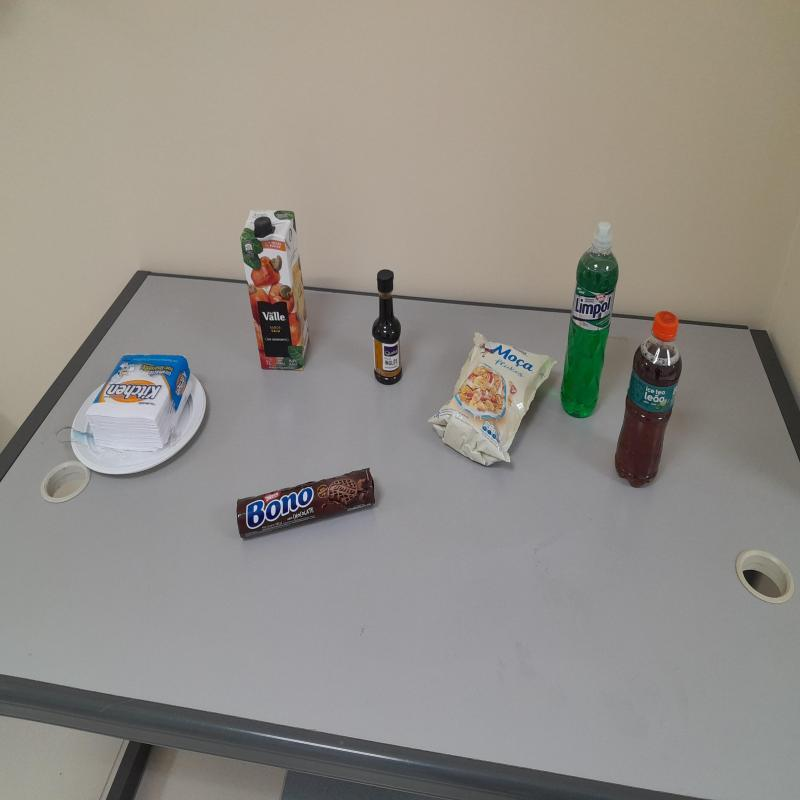Cleaner: (561, 223, 618, 421)
Cookies: (236, 470, 377, 543)
CornFlakes: (431, 336, 550, 469)
EnglishSauce: (374, 270, 403, 389)
IceTea: (614, 313, 684, 491)
